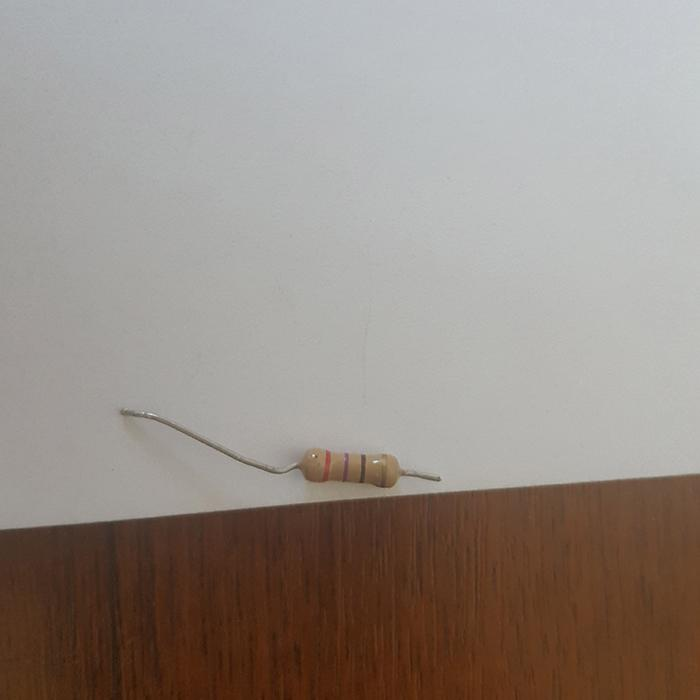resistor: (299, 447, 404, 488)
